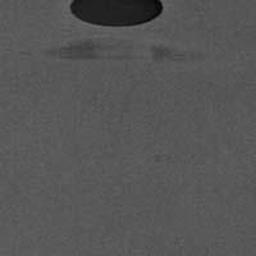Punching: (70, 0, 164, 28)
